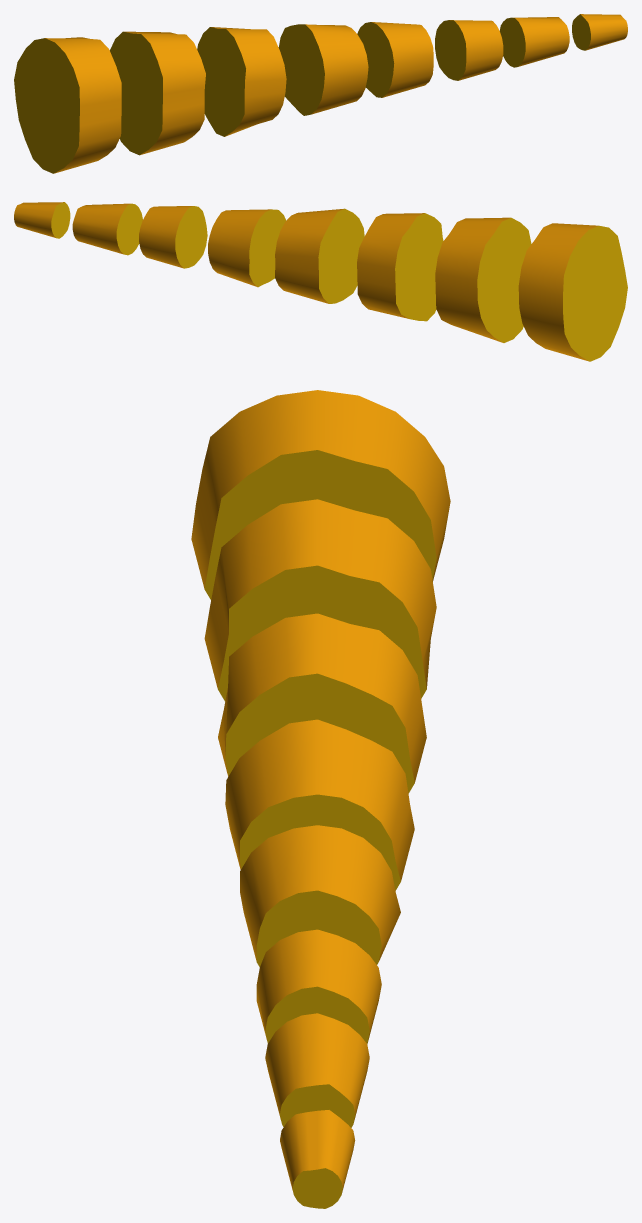
The model's file is mesh_Carrot_Stage5.fbx.
3 views of the same model, one above another, from view 1: azimuth 30°, elevation 25°; view 2: azimuth 150°, elevation 25°; view 3: azimuth 270°, elevation 25° (orthographic). The views are drawn at different scales.
Visible parts, largest first — view 1: mesh_carrot_stage5; view 2: mesh_carrot_stage5; view 3: mesh_carrot_stage5.
Part boxes in pixels (x1=…): mesh_carrot_stage5: x1=14, y1=14, x2=627, y2=173; mesh_carrot_stage5: x1=14, y1=202, x2=627, y2=361; mesh_carrot_stage5: x1=191, y1=390, x2=450, y2=1208.
Size of the model in its own units: 0.2376 by 0.0527 by 0.046.
